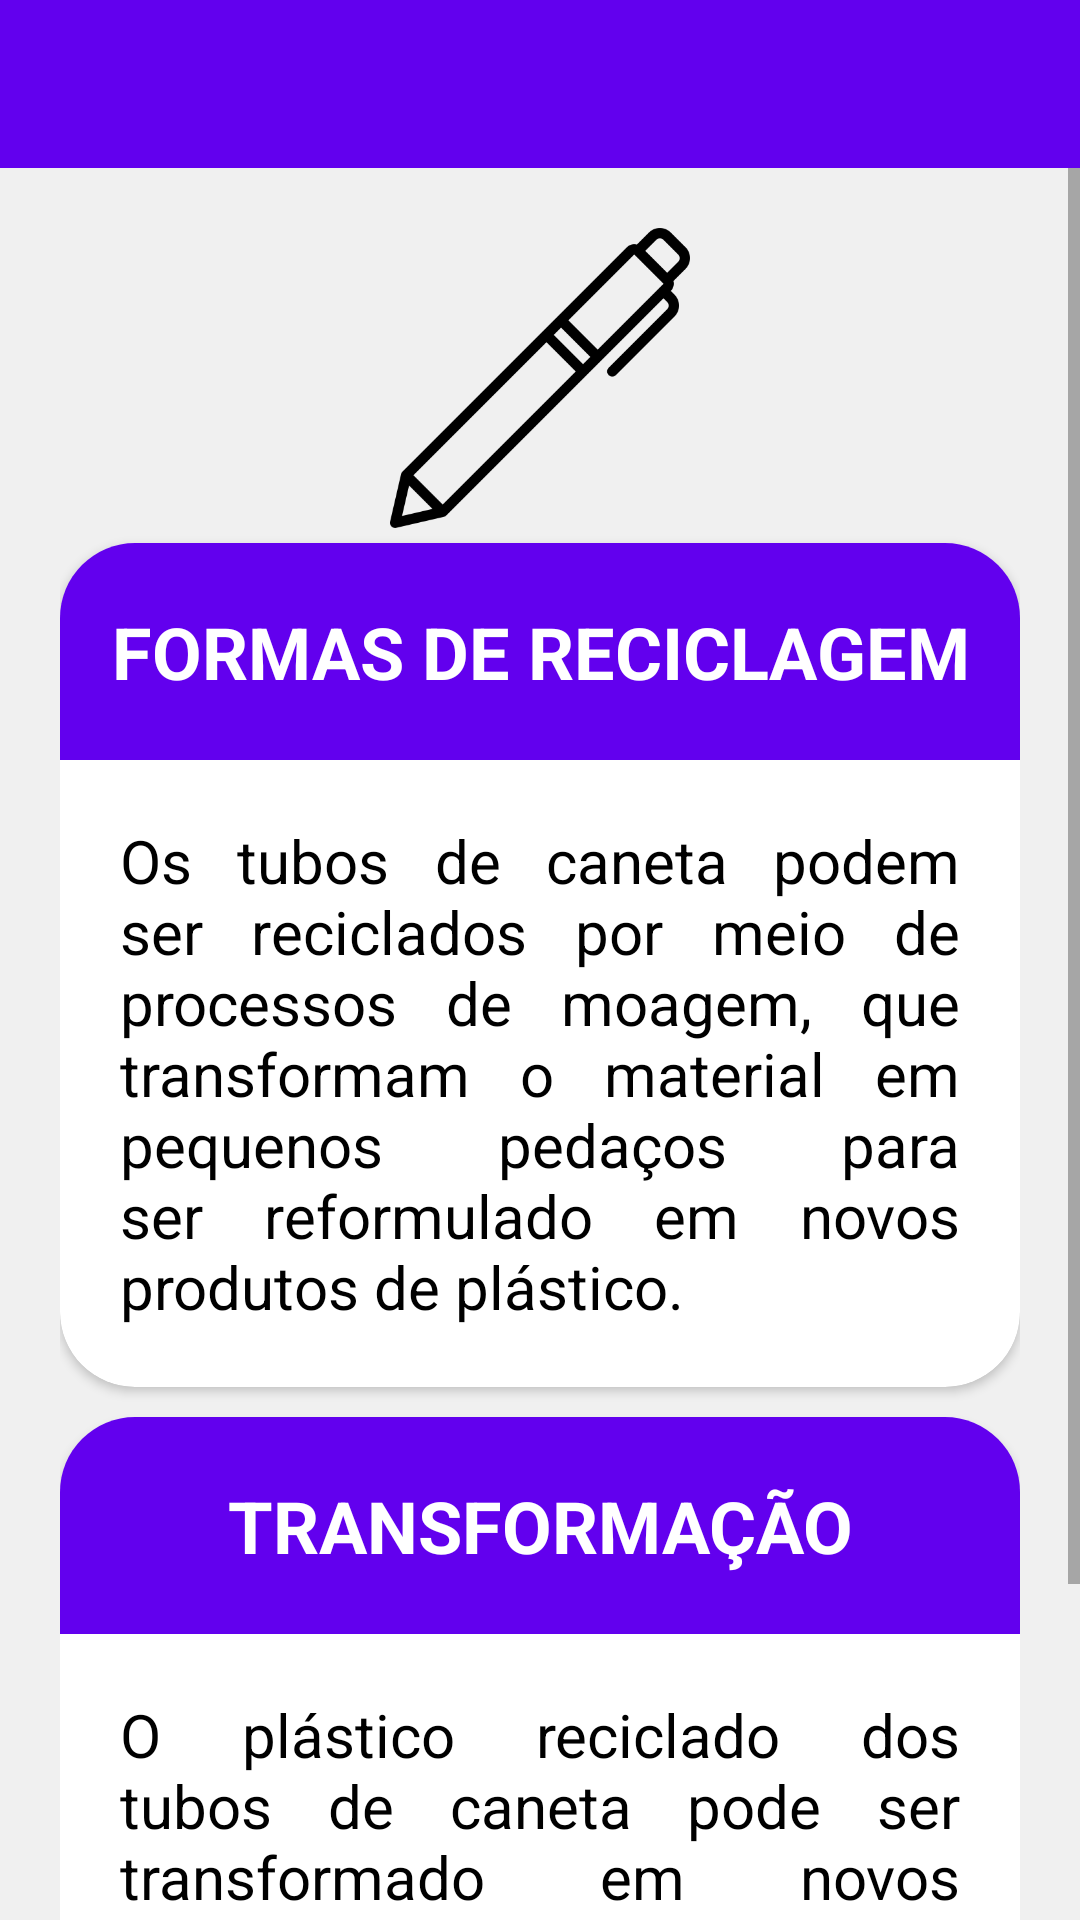

Named icons in this screenshot (1080w x 1920h) and their centers, point (x, y):
caneta: point (540, 378)
